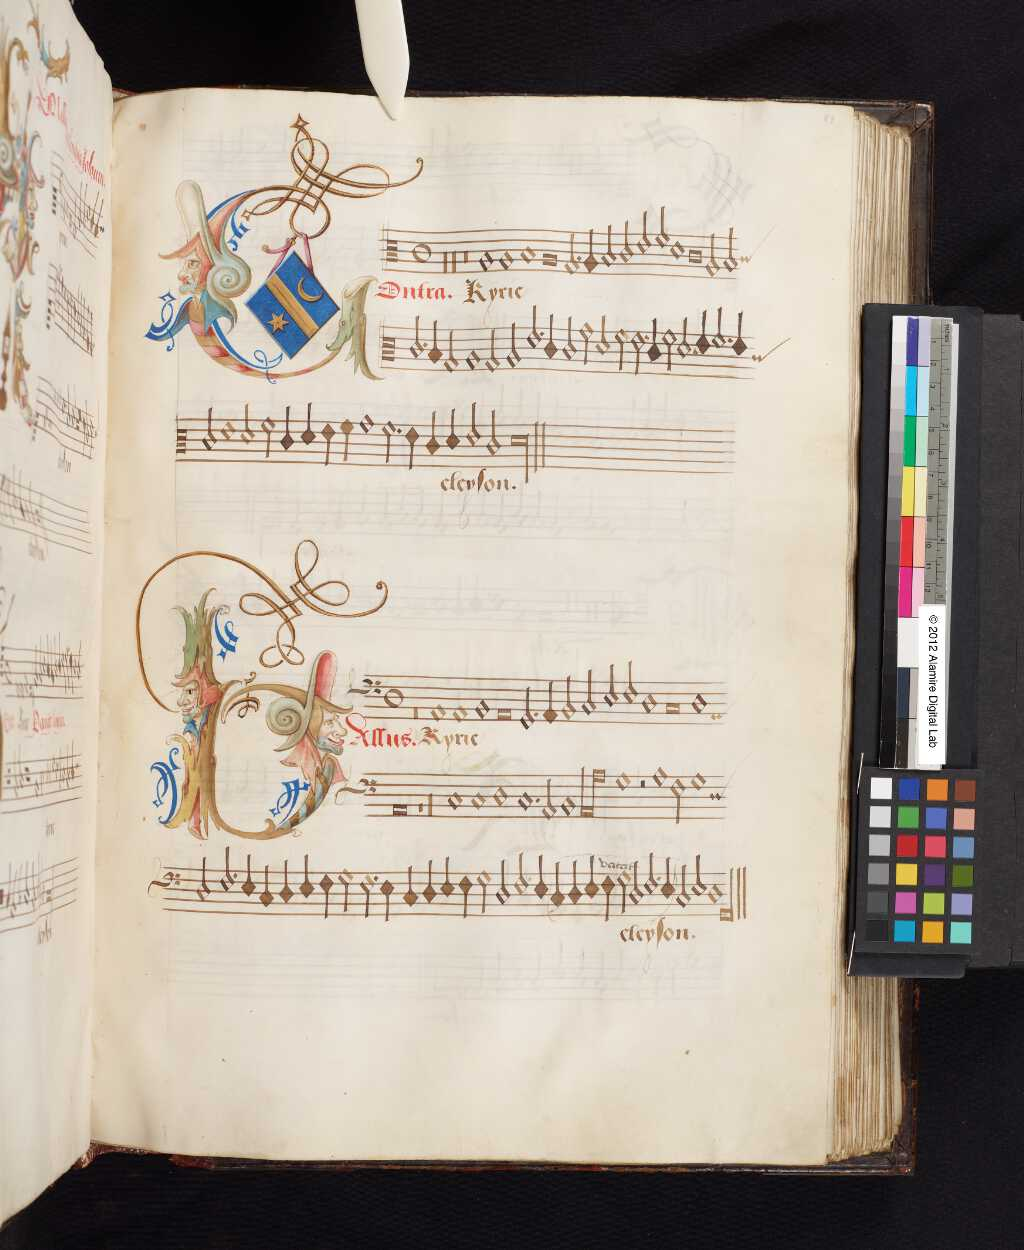breve_10: (388, 794, 412, 826)
custos_7: (709, 775, 740, 822)
f clef_5: (338, 764, 384, 810)
l1semibreve_10: (578, 759, 595, 821)
l2semibreve_3: (589, 763, 607, 821)
longa rest: (424, 769, 438, 828)
minim rest: (635, 762, 649, 826)
minim_10: (541, 768, 558, 824)
minim_5: (668, 768, 688, 828)
point: (529, 790, 542, 808)
semibreve rest: (412, 771, 426, 828)
semibreve_3: (649, 759, 670, 795)
semibreve_4: (612, 762, 635, 800), (688, 764, 709, 798)
semibreve_7: (489, 776, 510, 814)
semibreve_8: (444, 782, 467, 820), (468, 782, 490, 818), (514, 781, 534, 819)
semibreve_9: (559, 786, 578, 824)
